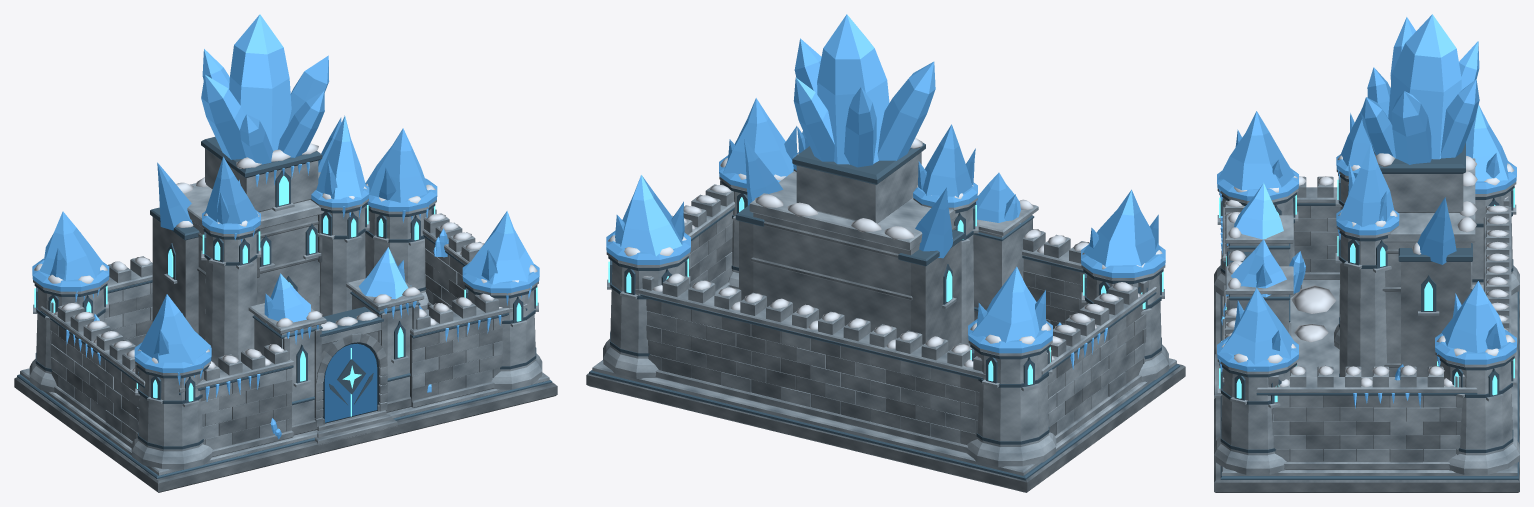
File: snow-castle.glb
3 views of the same model, side by side, from view 1: azimuth 30°, elevation 25°; view 2: azimuth 150°, elevation 25°; view 3: azimuth 270°, elevation 25° (orthographic). The views are drawn at different scales.
Parts seen in each view (by area): view 1: Snow Castle - Stone_Ice, Snow Castle - Ice_Crystal, Snow Castle - Trim, Snow Castle - Snow, Snow Castle - Glow; view 2: Snow Castle - Stone_Ice, Snow Castle - Ice_Crystal, Snow Castle - Trim, Snow Castle - Snow, Snow Castle - Glow; view 3: Snow Castle - Stone_Ice, Snow Castle - Ice_Crystal, Snow Castle - Trim, Snow Castle - Snow, Snow Castle - Glow.
Boxes of the visible parts, x1,y1,x2,y2 form: Snow Castle - Stone_Ice: [14, 148, 557, 492]; Snow Castle - Ice_Crystal: [32, 14, 539, 439]; Snow Castle - Trim: [17, 137, 552, 478]; Snow Castle - Snow: [34, 143, 537, 380]; Snow Castle - Glow: [34, 175, 537, 416]; Snow Castle - Stone_Ice: [586, 152, 1185, 492]; Snow Castle - Ice_Crystal: [606, 14, 1165, 369]; Snow Castle - Trim: [589, 143, 1179, 480]; Snow Castle - Snow: [608, 138, 1162, 367]; Snow Castle - Glow: [608, 197, 1163, 384]; Snow Castle - Stone_Ice: [1214, 158, 1519, 492]; Snow Castle - Ice_Crystal: [1217, 14, 1516, 408]; Snow Castle - Trim: [1219, 143, 1518, 480]; Snow Castle - Snow: [1221, 153, 1515, 387]; Snow Castle - Glow: [1219, 179, 1514, 402].
Size of the model in its own units: 9 by 7.64 by 5.6.
Materials: 5 (1 with a texture image).
